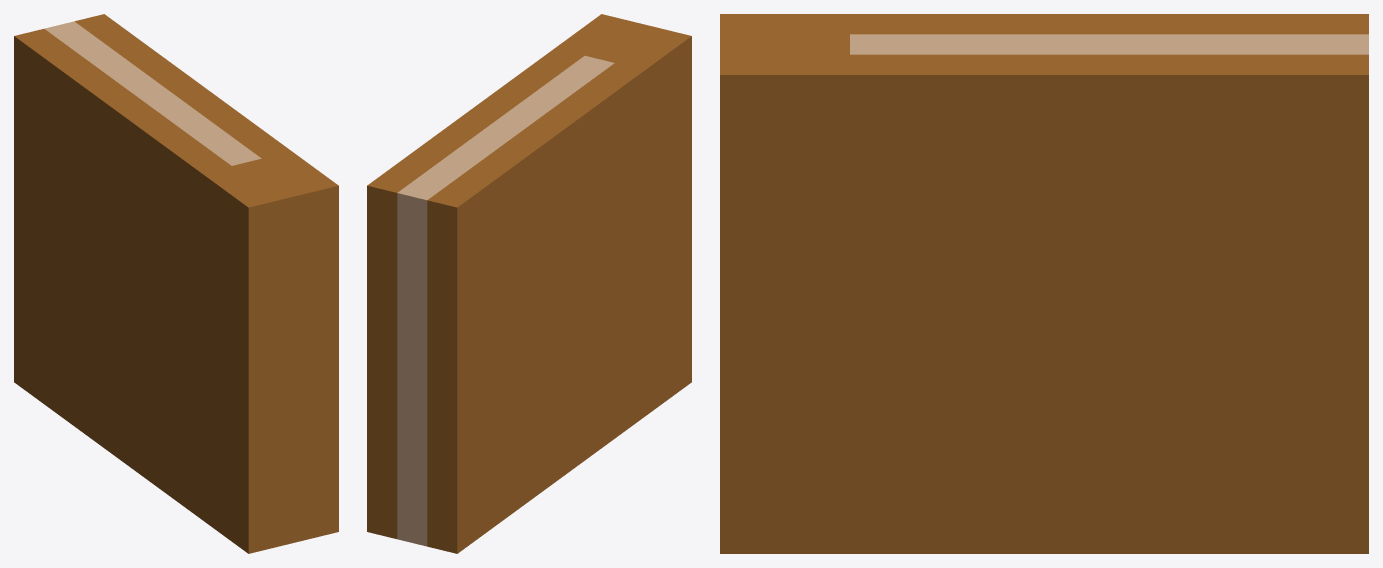
The model's file is livre5.fbx.
3 renders of one model, left to right at view 1: azimuth 30°, elevation 25°; view 2: azimuth 150°, elevation 25°; view 3: azimuth 270°, elevation 25°, orthographic. The views are drawn at different scales.
Visible parts, largest first — view 1: Livre 5; view 2: Livre 5; view 3: Livre 5.
Part boxes in pixels (bbox=[...]): Livre 5: bbox=[14, 14, 338, 553]; Livre 5: bbox=[367, 14, 691, 553]; Livre 5: bbox=[720, 14, 1368, 553].
Bounding box in the file's own units: 6 × 22 × 27.
1 material, 1 textured.
